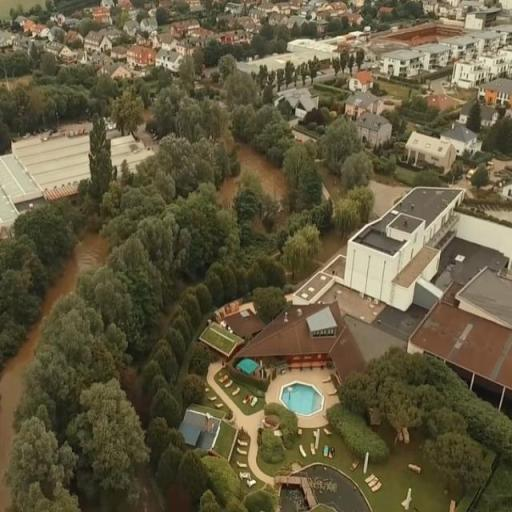flood: (0, 321, 39, 512), (40, 233, 108, 317), (241, 143, 288, 200), (370, 177, 409, 219), (316, 233, 345, 268), (321, 167, 339, 201), (219, 177, 239, 207)
house: (344, 181, 466, 305), (0, 120, 102, 221), (236, 300, 342, 372), (295, 457, 380, 512), (268, 363, 334, 429), (406, 128, 461, 179), (358, 110, 396, 152), (345, 90, 384, 117), (384, 50, 422, 76), (455, 60, 488, 88), (477, 77, 512, 103), (420, 44, 450, 70), (153, 48, 182, 70), (126, 45, 153, 67), (84, 30, 111, 52), (47, 40, 72, 60), (347, 72, 374, 90), (465, 11, 488, 32), (293, 93, 313, 114)
